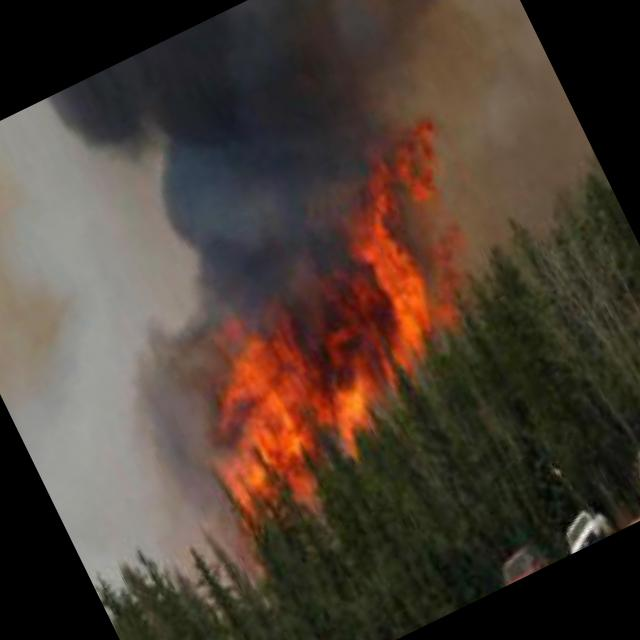fire: (129, 178, 485, 510)
smoke: (14, 0, 585, 356)
